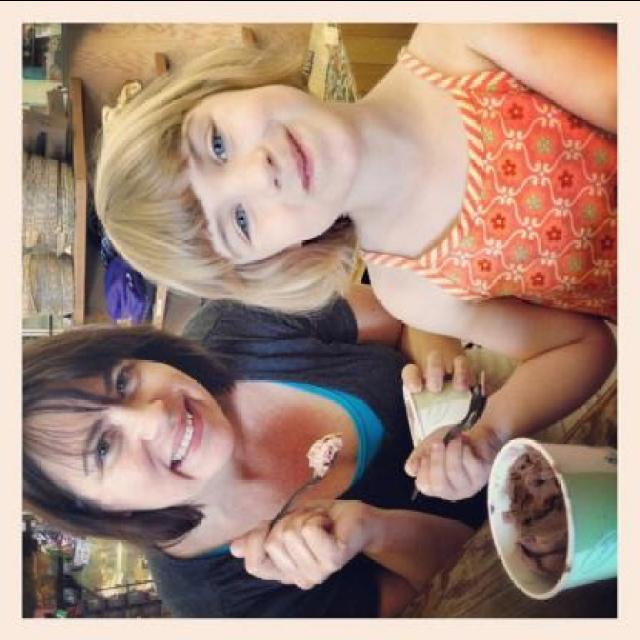Ice cream: (489, 439, 603, 604), (304, 430, 342, 473)
